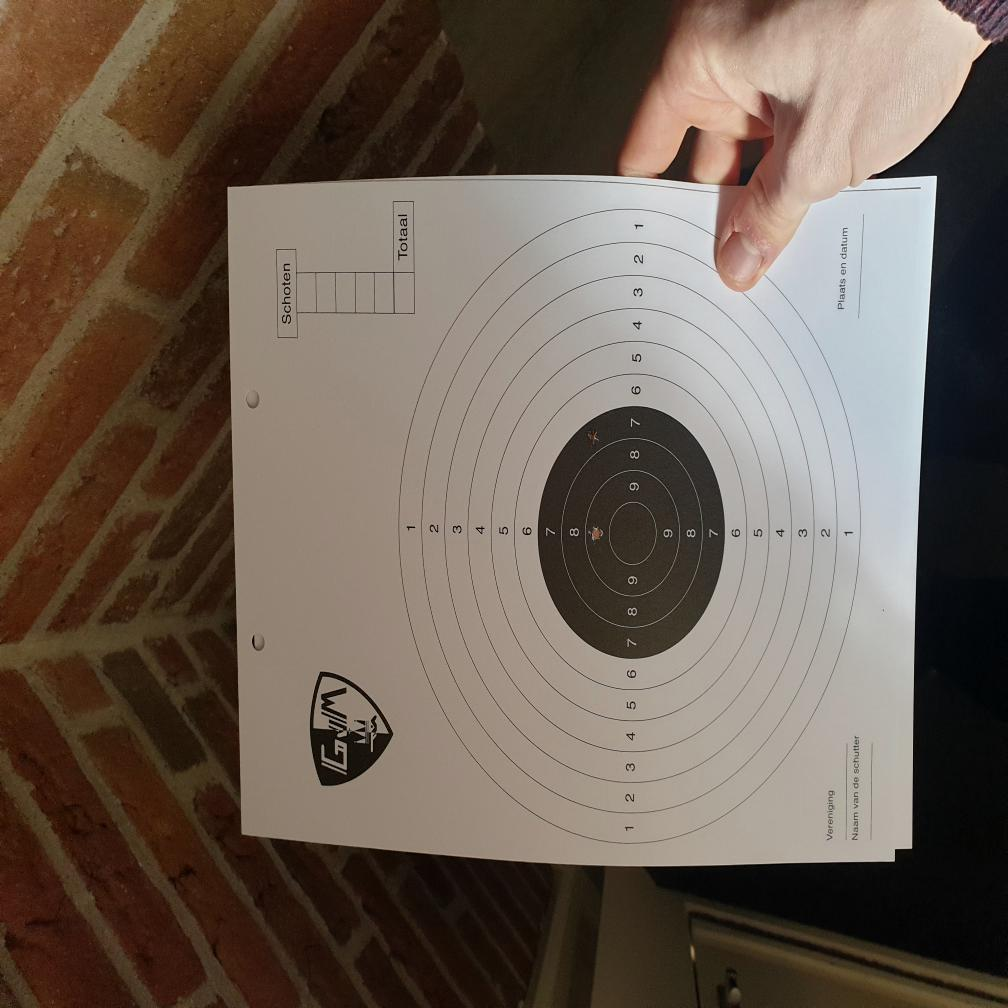7: (586, 424, 599, 447)
9: (588, 524, 602, 544)
Target: (396, 205, 862, 845)
black_contour: (537, 405, 725, 659)
